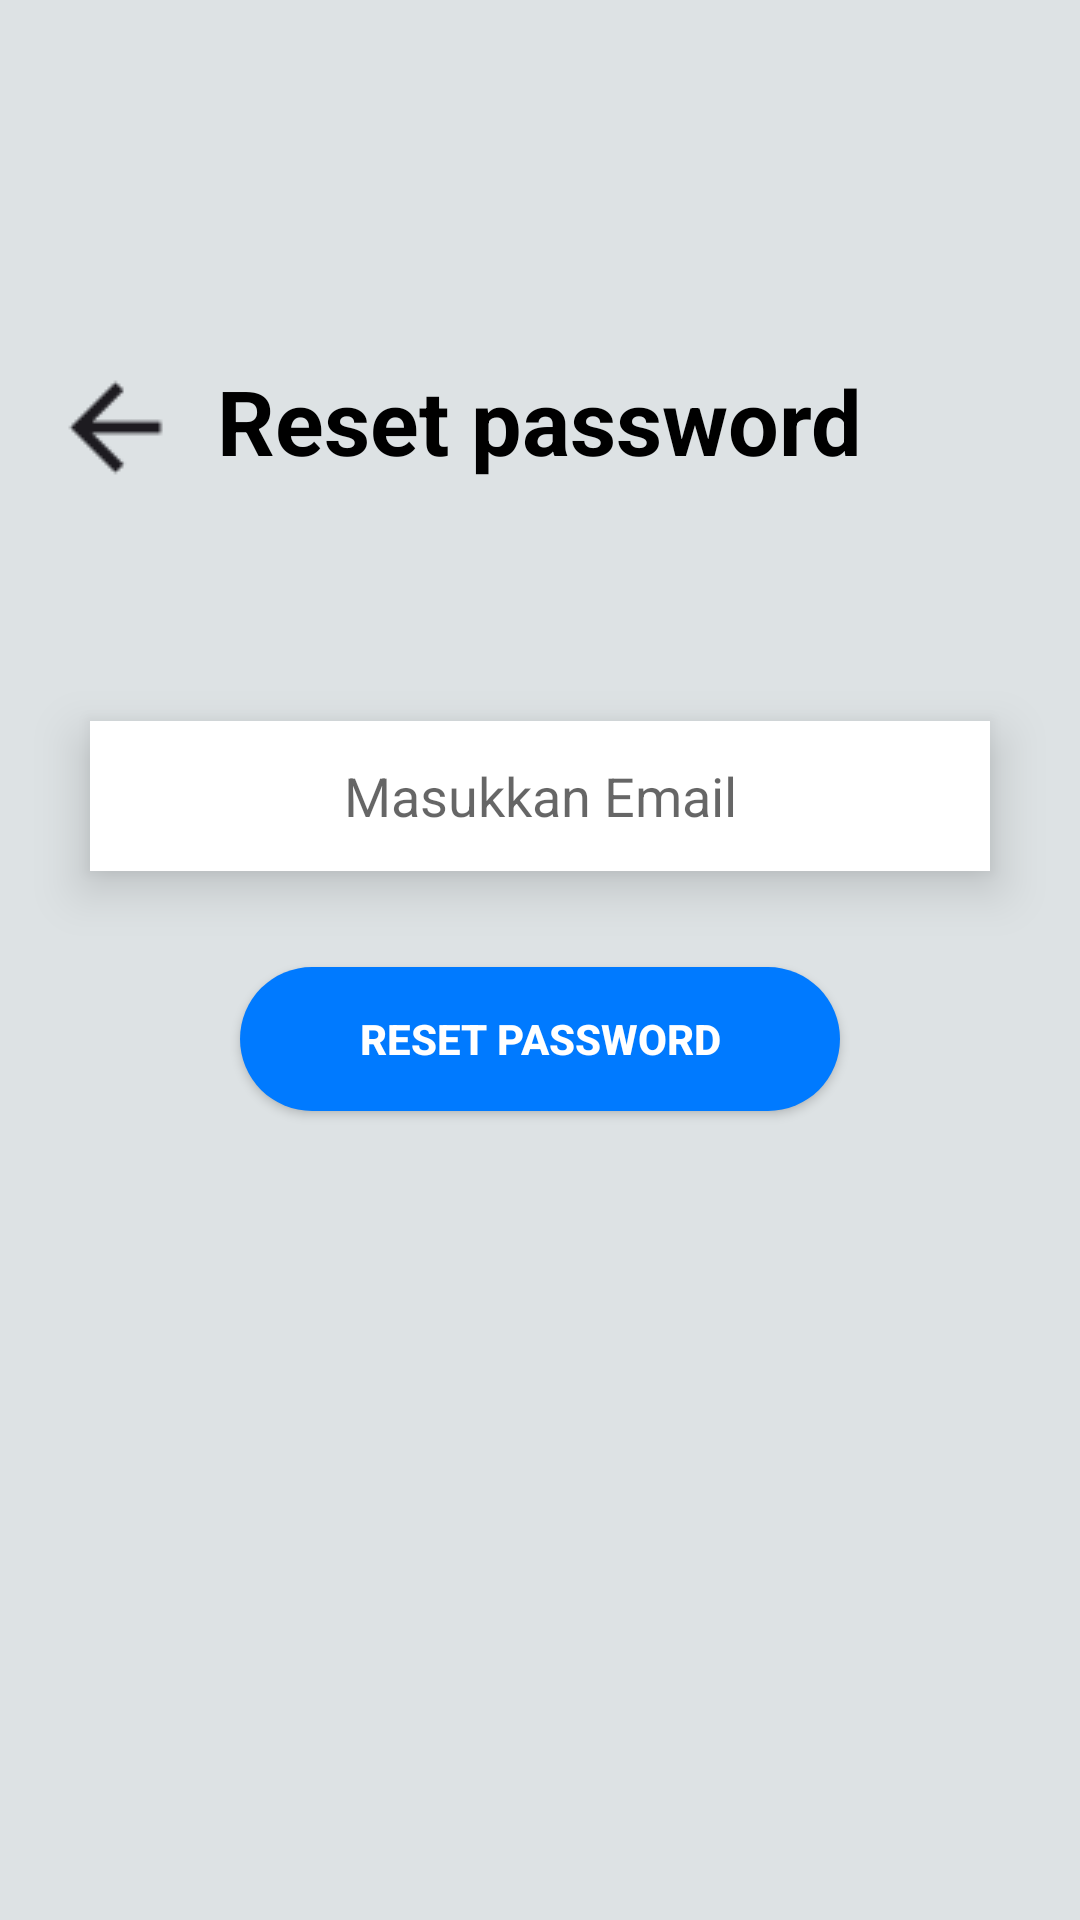

Screen size 1080*1920. Icon name, then its box in pixels as [x1,y1,x2,y2]:
Kembali ke halaman login: [69,381,163,474]
